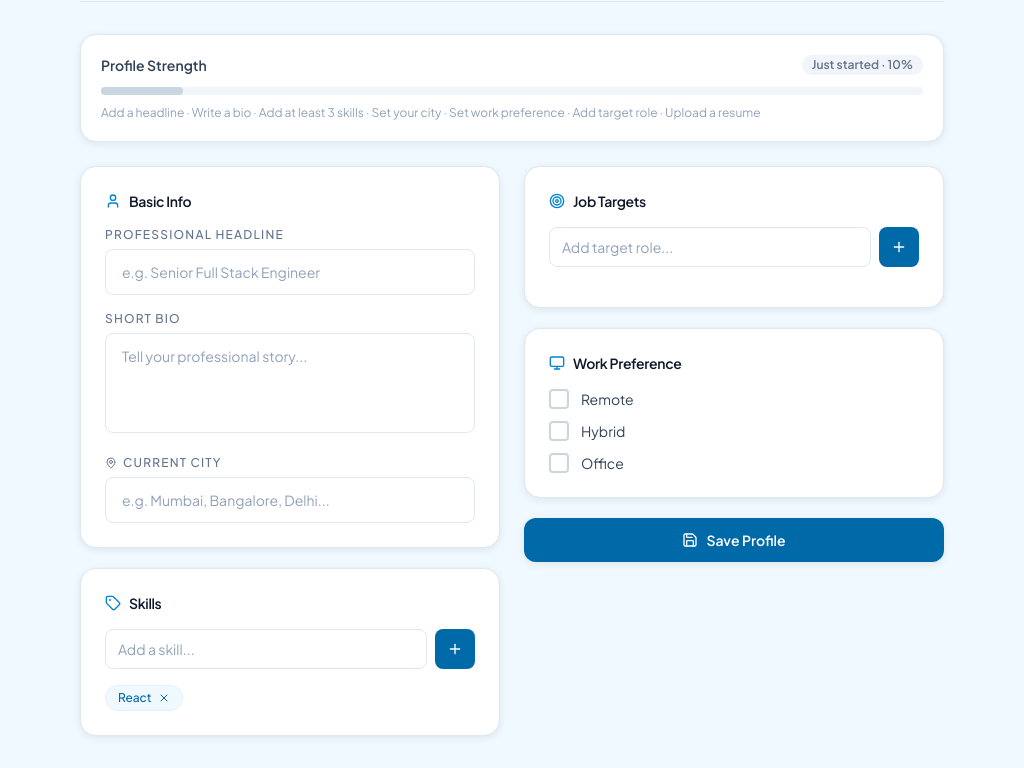
Test: ProfileEditor › handles adding and removing skills
(page scrolled)
Type "TypeScript" into the field with placeholder "Add a skill...". click: {"x": 266, "y": 649}
box: left=105, top=629, right=427, bottom=669
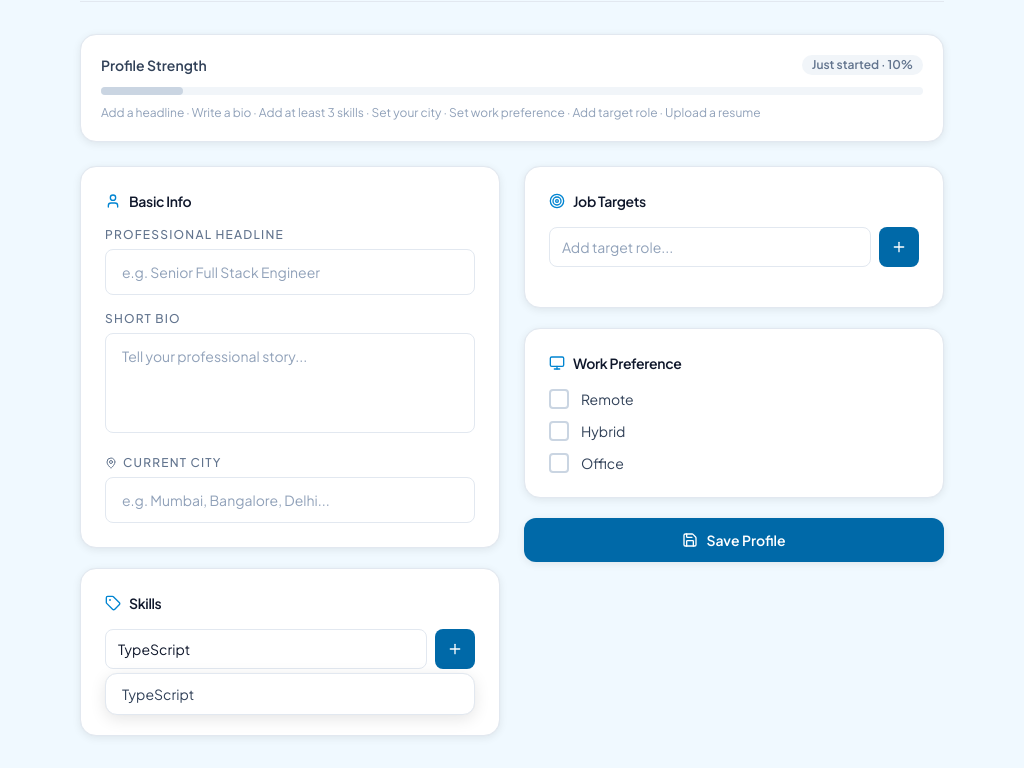
Press Enter in the field with placeholder "Add a skill...", box left=105, top=629, right=427, bottom=669
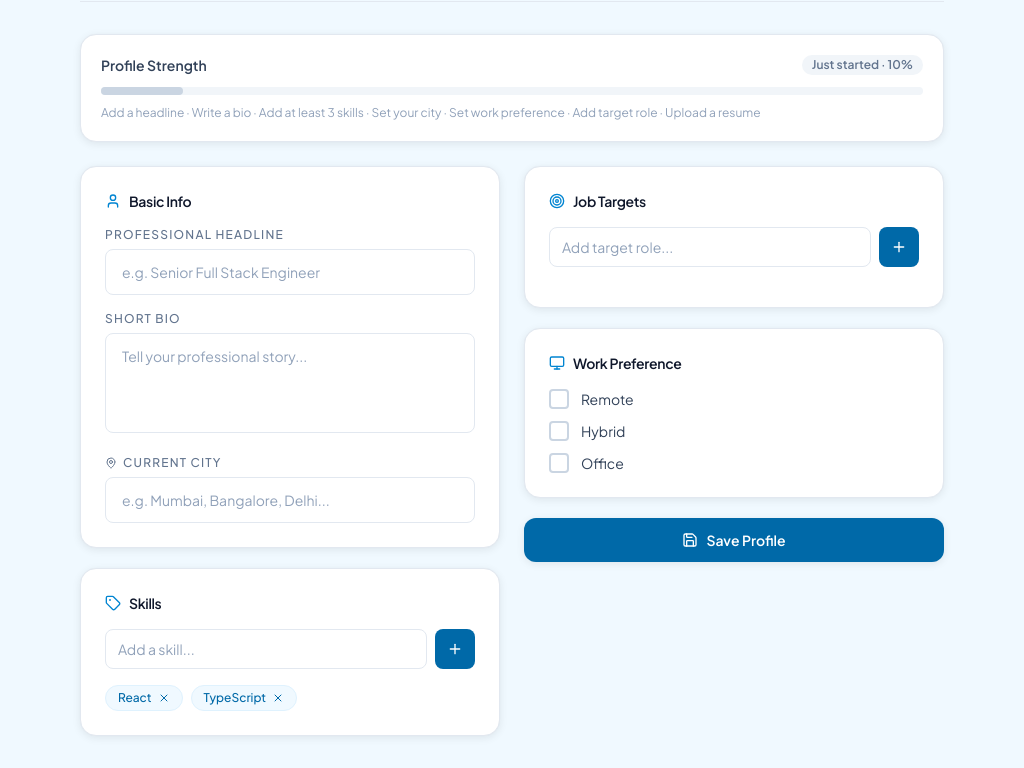
Check: the text "TypeScript" is shown, box left=191, top=685, right=297, bottom=711
Click the button without text next to "TypeScript". click: {"x": 278, "y": 698}
box: left=272, top=692, right=284, bottom=704
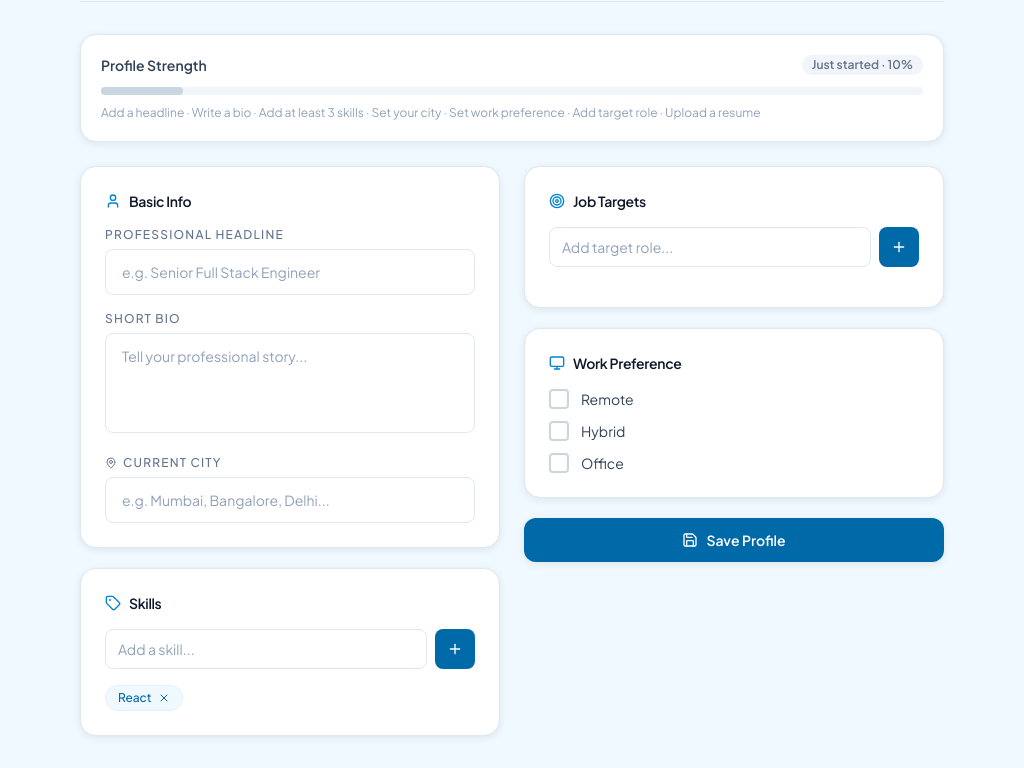
Check: the text "TypeScript" is gone
